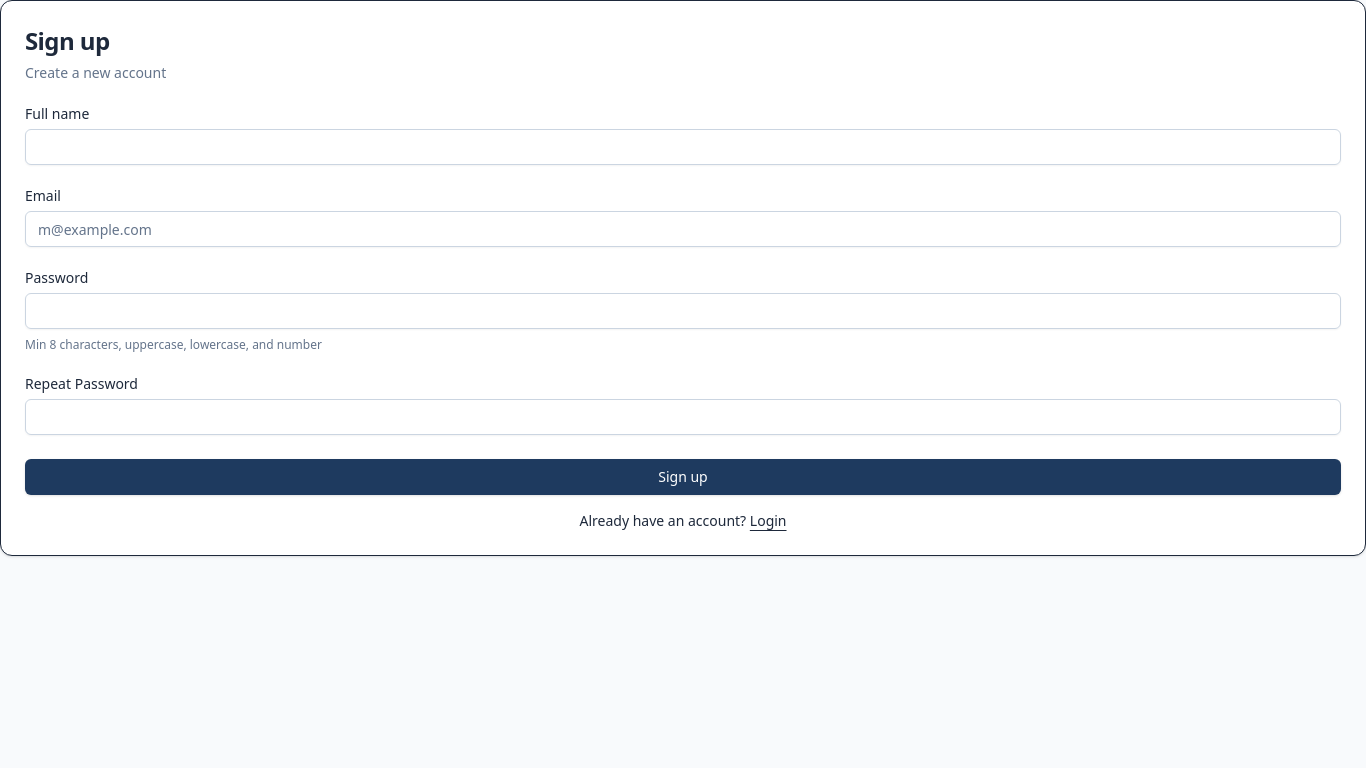
Test case: SignUpForm component › error handling › should display error message on signup failure
Type "John Doe" into the field labelled "Full name" at (683, 147), box [25,129,1341,165]
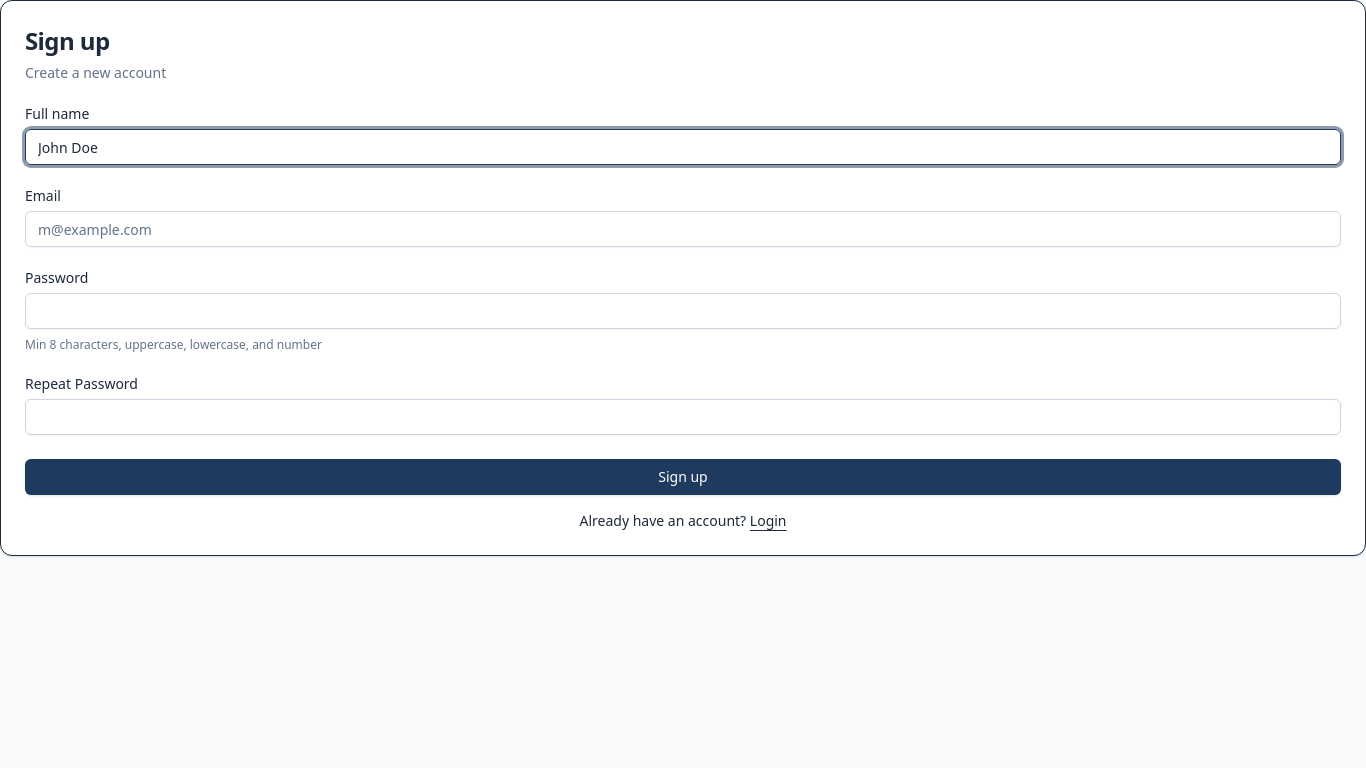
Type "existing@example.com" into the field labelled "Email" at (683, 229), box [25,211,1341,247]
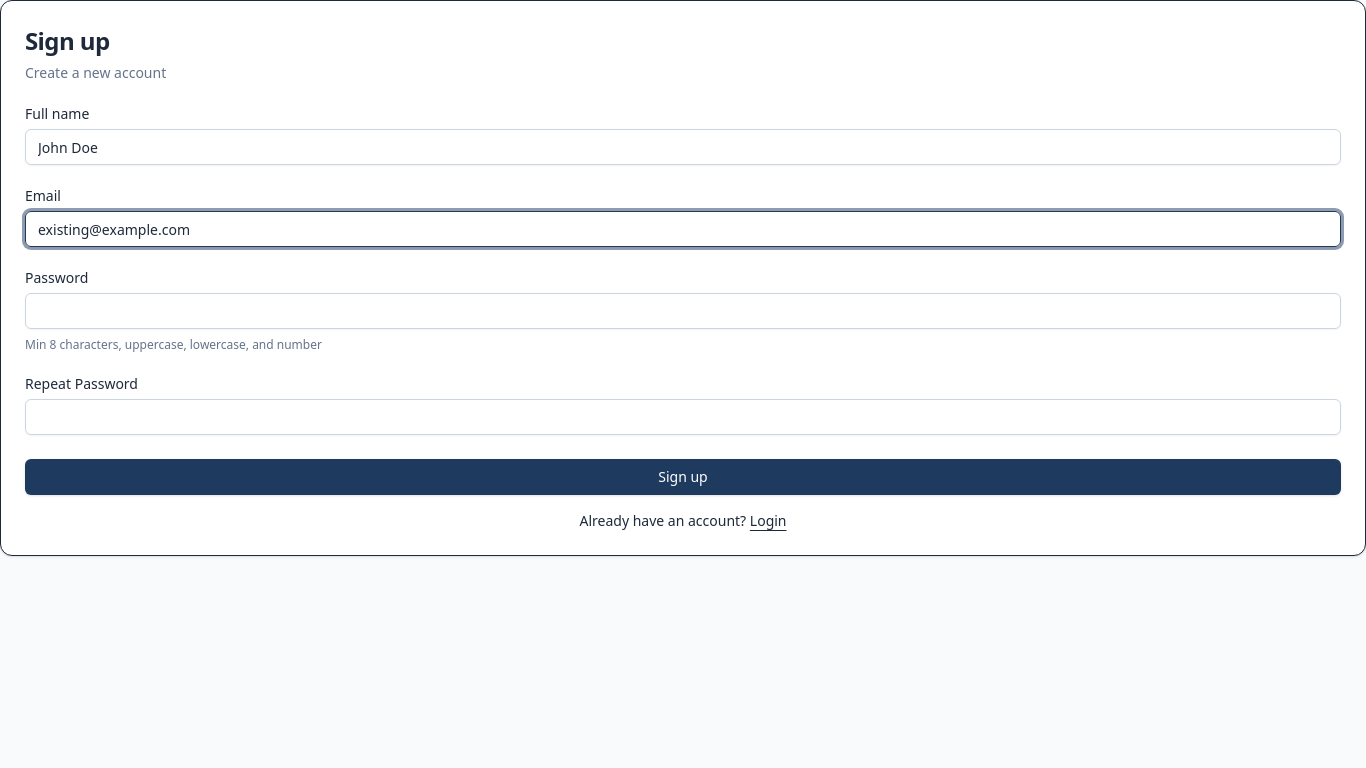
Type "Password123" into the password field labelled "Password" at (683, 311), box [25,293,1341,329]
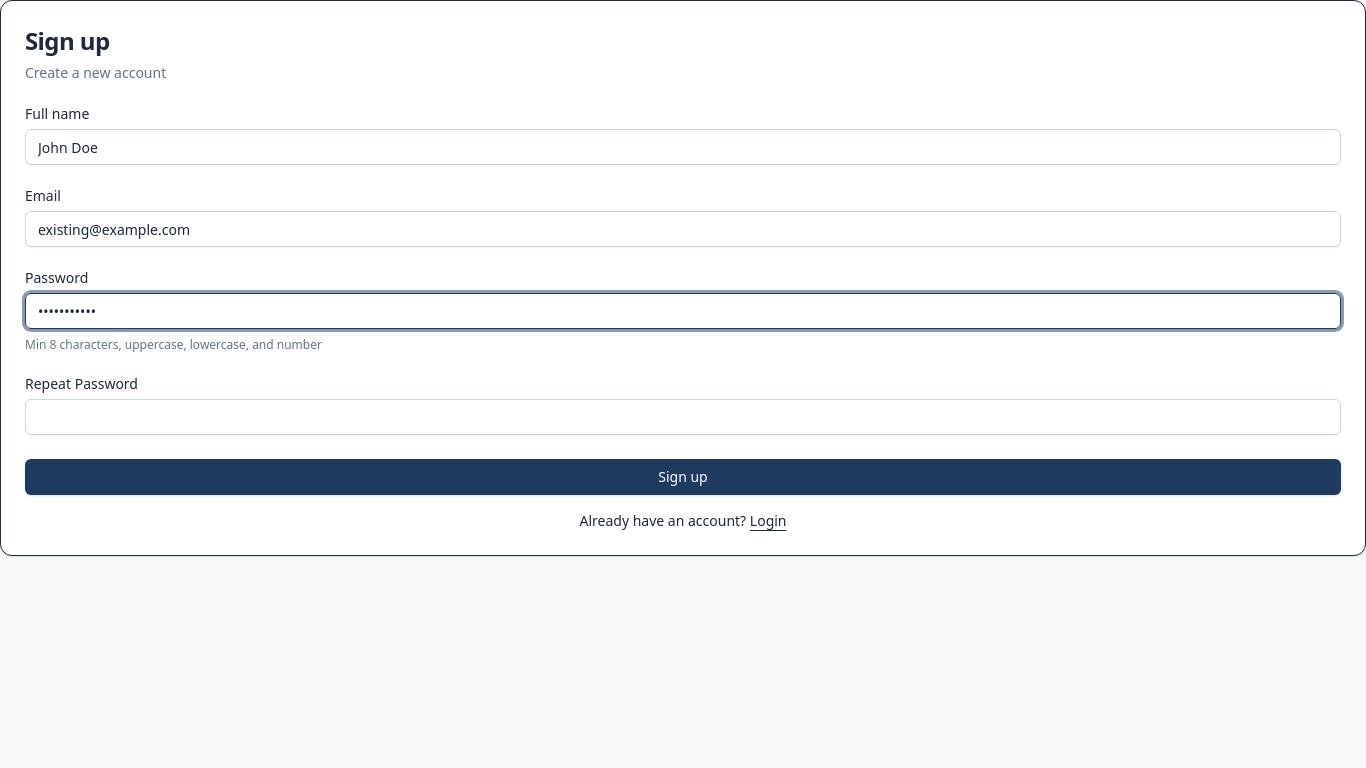
Type "Password123" into the password field labelled "Repeat Password" at (683, 417), box [25,399,1341,435]
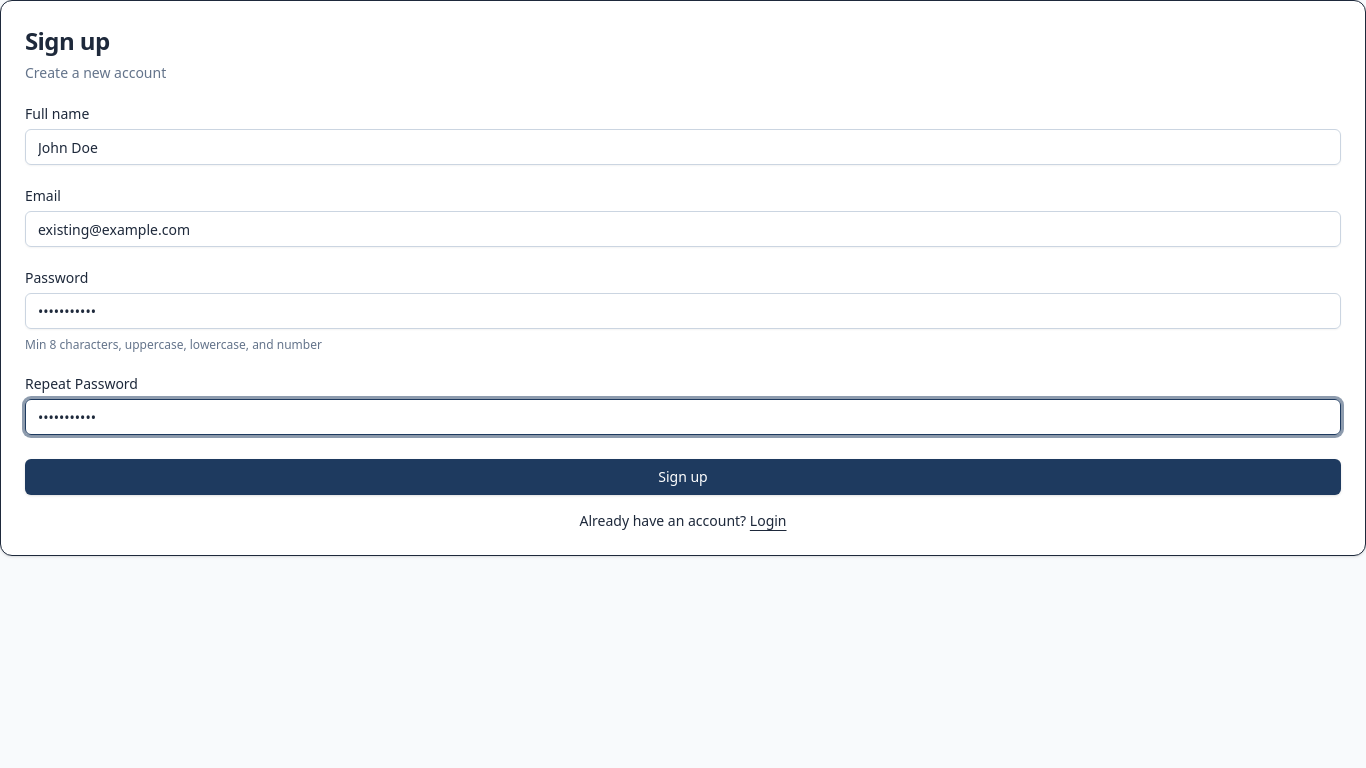
Click the button "Sign up" at (683, 477), box [25,459,1341,495]
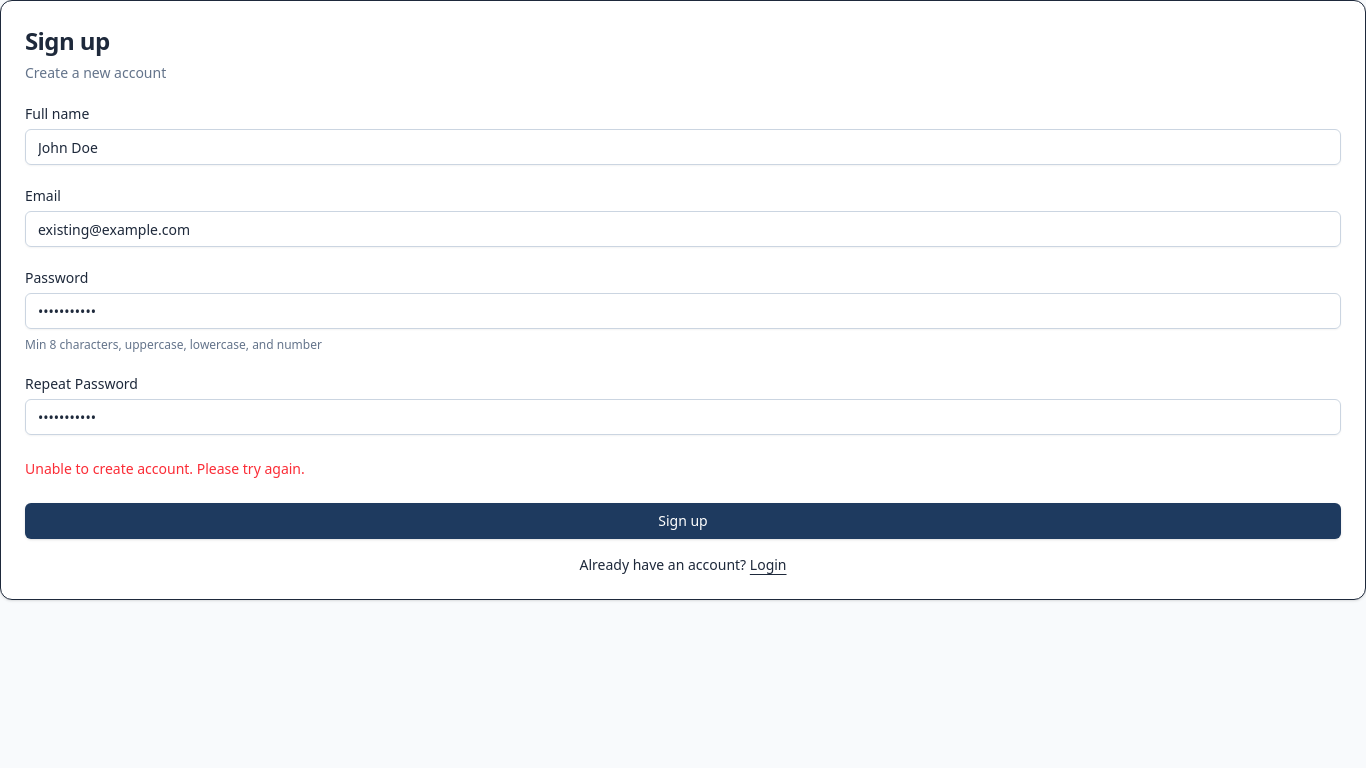
Expected: the text "Unable to create account. Please try again." is shown, [25,459,305,478]
